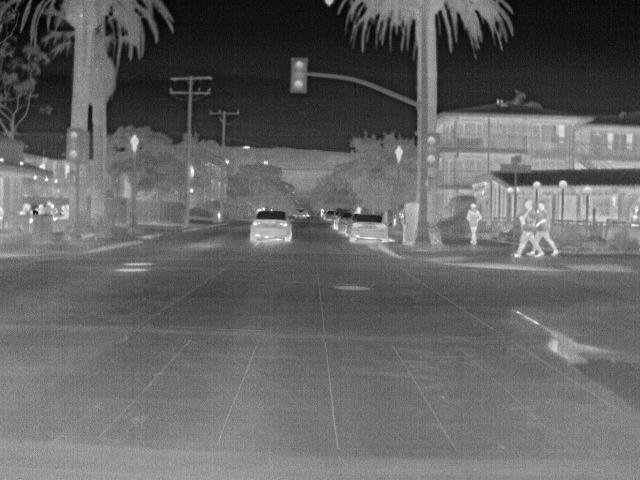car: (246, 209, 294, 244), (347, 211, 390, 247), (337, 211, 357, 232), (323, 210, 337, 221)
person: (510, 200, 543, 260), (533, 202, 560, 258), (465, 200, 483, 246), (44, 198, 58, 216), (17, 204, 33, 216), (31, 204, 45, 216)
